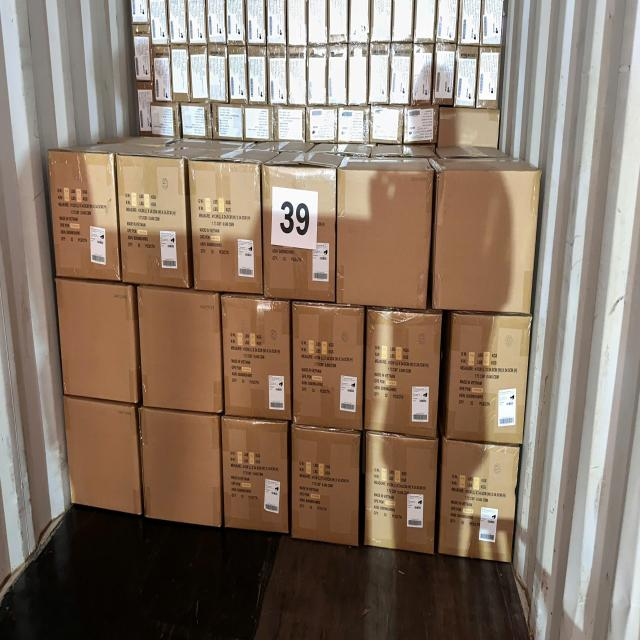Carton: (438, 170, 534, 314), (337, 165, 429, 315), (444, 311, 532, 446), (136, 287, 224, 415), (54, 279, 140, 405), (138, 406, 222, 534), (47, 147, 121, 290), (364, 307, 441, 438), (263, 163, 335, 302), (189, 161, 263, 296), (442, 441, 521, 566), (116, 154, 188, 290), (64, 394, 140, 516), (222, 292, 292, 422), (292, 302, 362, 431), (366, 430, 436, 556), (289, 426, 361, 548), (221, 417, 291, 537)
